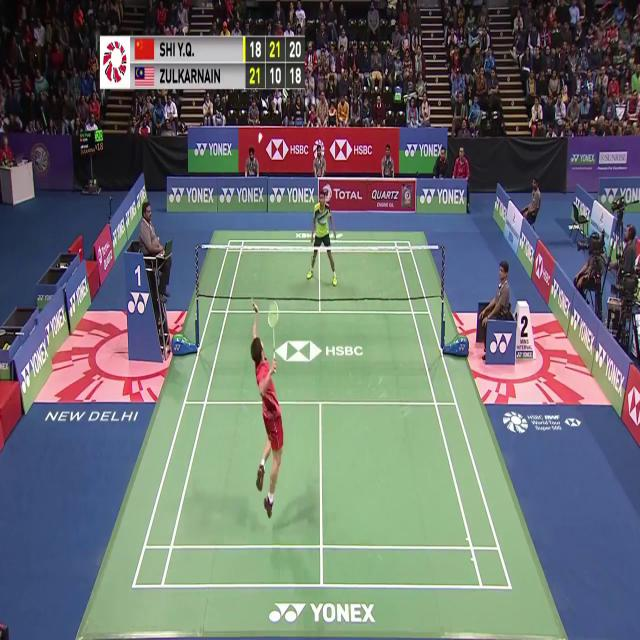Shuttlecock: (254, 136, 261, 147)
